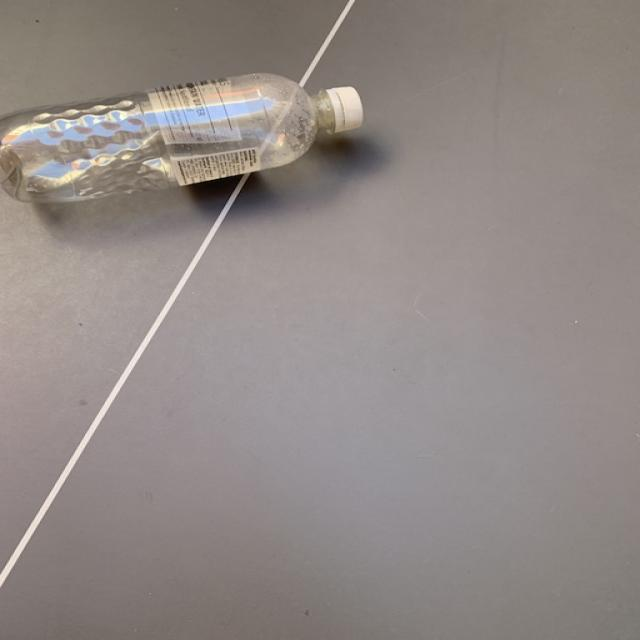plastic_bottle: (0, 72, 363, 202)
